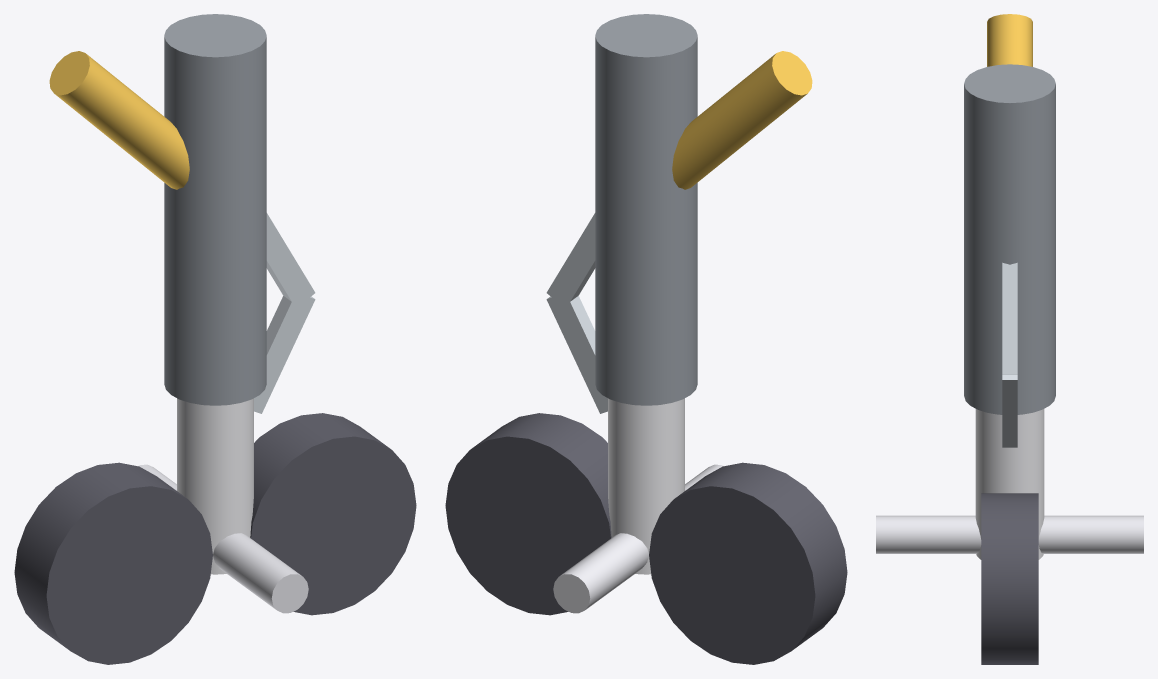
The model's file is landing_gear_strut.glb.
3 views of the same model, side by side, from view 1: azimuth 30°, elevation 25°; view 2: azimuth 150°, elevation 25°; view 3: azimuth 270°, elevation 25° (orthographic). The views are drawn at different scales.
Visible parts, largest first — view 1: MainCylinder, Tire_Left, Tire_Right, OleoPiston, RetractActuator, WheelAxle, LowerTorqueLink, UpperTorqueLink; view 2: MainCylinder, Tire_Left, Tire_Right, OleoPiston, RetractActuator, WheelAxle, LowerTorqueLink, UpperTorqueLink; view 3: MainCylinder, Tire_Right, WheelAxle, OleoPiston, RetractActuator, UpperTorqueLink, LowerTorqueLink.
Part boxes in pixels (box(x1,y1,x2,y2)): MainCylinder: box(164, 14, 266, 405); Tire_Left: box(14, 462, 212, 664); Tire_Right: box(250, 413, 416, 615); OleoPiston: box(177, 398, 253, 574); RetractActuator: box(49, 51, 189, 189); WheelAxle: box(138, 464, 308, 613); LowerTorqueLink: box(254, 293, 315, 413); UpperTorqueLink: box(266, 213, 315, 308); MainCylinder: box(595, 14, 697, 405); Tire_Left: box(649, 462, 847, 664); Tire_Right: box(445, 413, 611, 615); OleoPiston: box(608, 398, 684, 574); RetractActuator: box(672, 51, 812, 189); WheelAxle: box(553, 464, 723, 613); LowerTorqueLink: box(546, 293, 607, 413); UpperTorqueLink: box(546, 213, 595, 308); MainCylinder: box(964, 64, 1055, 414); Tire_Right: box(981, 493, 1038, 664); WheelAxle: box(876, 515, 1143, 553); OleoPiston: box(975, 409, 1044, 559); RetractActuator: box(987, 14, 1032, 66); UpperTorqueLink: box(1002, 262, 1017, 374); LowerTorqueLink: box(1002, 374, 1017, 447).
Bounding box in the file's own units: 2 × 3.12 × 1.4.
